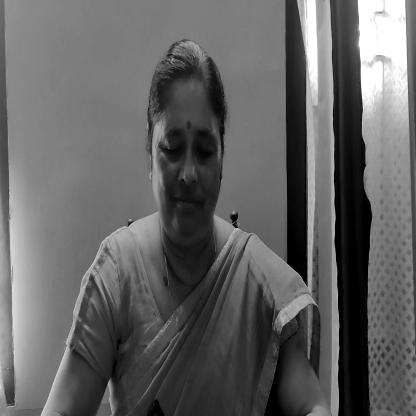Normal: (146, 43, 227, 249)
